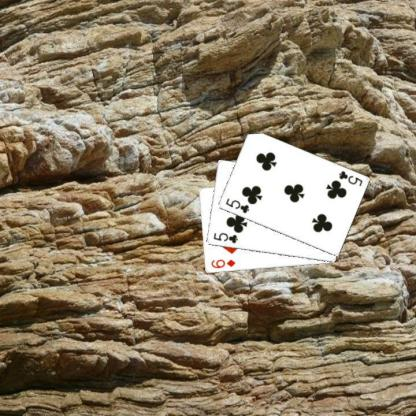5C: (223, 196, 250, 215), (336, 168, 363, 187), (210, 230, 239, 245)
6D: (209, 257, 236, 270)
